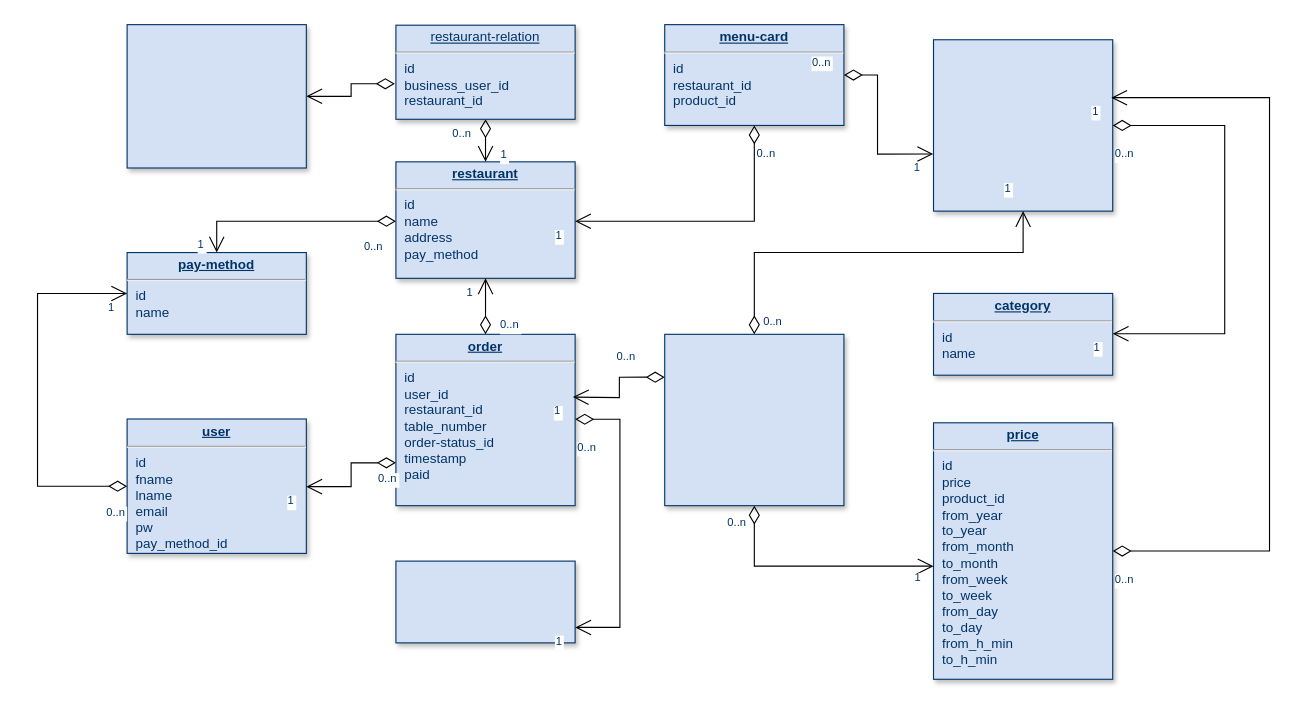
The diagram is 1308 pixels wide and 707 high, and some of its shapes have lost their labels. Each missing label, with the centre of its shape:
business-user id fname lname email pw role: pixel 217 97
order-status id description: pixel 486 603
ordered-product id product_id order_id price_id amount special_wish: pixel 755 421
product id name description category_id type image-link: pixel 1023 126
